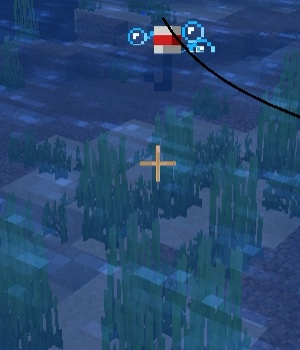up: (148, 18, 186, 96)
